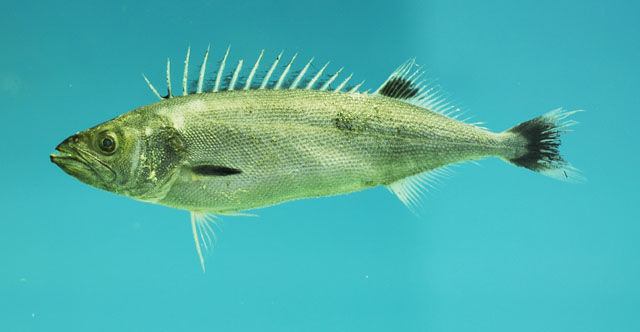fish: (48, 43, 587, 274)
